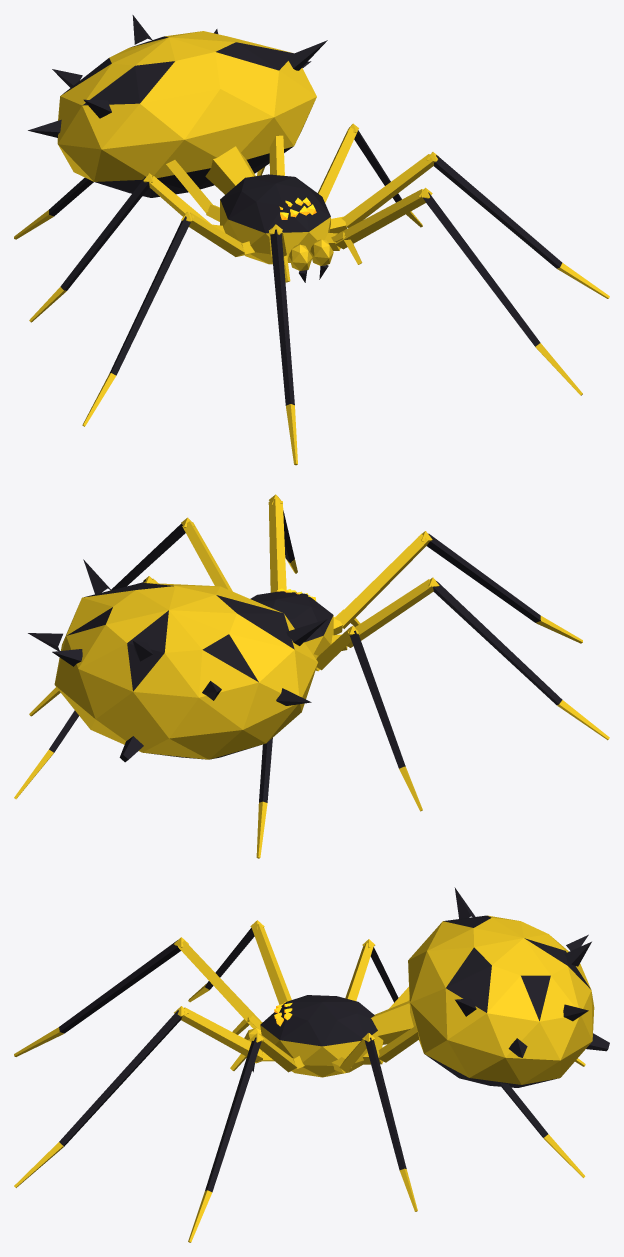
The model's file is orb.glb.
3 renders of one model, top to bottom at view 1: azimuth 30°, elevation 25°; view 2: azimuth 150°, elevation 25°; view 3: azimuth 270°, elevation 25°, orthographic. The views are drawn at different scales.
Visible parts, largest first — view 1: abdomen, body, leg_R1_lower, leg_L2_lower, leg_L1_lower, leg_R2_lower, leg_L2_upper, leg_R3_lower, leg_L1_upper, fangs, leg_R2_upper, leg_R4_upper (+4 smaller); view 2: abdomen, body, leg_R2_lower, leg_R1_lower, leg_R1_upper, leg_R3_lower, leg_L1_upper, leg_R2_upper, leg_R4_lower, leg_L2_upper, leg_L2_lower, leg_L4_lower (+1 smaller); view 3: abdomen, body, leg_L1_lower, leg_R1_lower, leg_L2_lower, leg_L3_lower, leg_L1_upper, leg_R1_upper, leg_R2_upper, leg_L4_lower, leg_L4_upper, leg_R2_lower (+3 smaller).
Part boxes in pixels (x1,y1,x2,y2): abdomen: (28,15,327,197); body: (220,174,330,264); leg_R1_lower: (269,224,297,465); leg_L2_lower: (426,152,609,298); leg_L1_lower: (418,187,582,395); leg_R2_lower: (82,211,193,426); leg_L2_upper: (329,154,433,233); leg_R3_lower: (29,173,153,322); leg_L1_upper: (325,189,425,250); fangs: (289,239,333,282); leg_R2_upper: (182,212,254,256); leg_R4_upper: (166,160,219,221); abdomen: (28,559,327,762); body: (250,588,333,655); leg_R2_lower: (428,577,609,740); leg_R1_lower: (421,531,582,643); leg_R1_upper: (333,534,428,635); leg_R3_lower: (347,626,422,811); leg_L1_upper: (268,498,286,592); leg_R2_upper: (331,579,433,650); leg_R4_lower: (256,738,272,858); leg_L2_upper: (182,521,232,591); leg_L2_lower: (110,517,193,590); leg_L4_lower: (14,710,78,799); abdomen: (371,887,609,1087); body: (260,995,383,1077); leg_L1_lower: (14,1006,188,1187); leg_R1_lower: (14,937,188,1056); leg_L2_lower: (188,1033,264,1242); leg_L3_lower: (362,1033,417,1211); leg_L1_upper: (181,1007,274,1061); leg_R1_upper: (178,940,262,1028); leg_R2_upper: (252,923,291,1004); leg_L4_lower: (498,1083,585,1177); leg_L4_upper: (360,1026,419,1064); leg_R2_lower: (188,920,264,1002).
Size of the model in its own units: 5.8 by 2.07 by 6.03.
